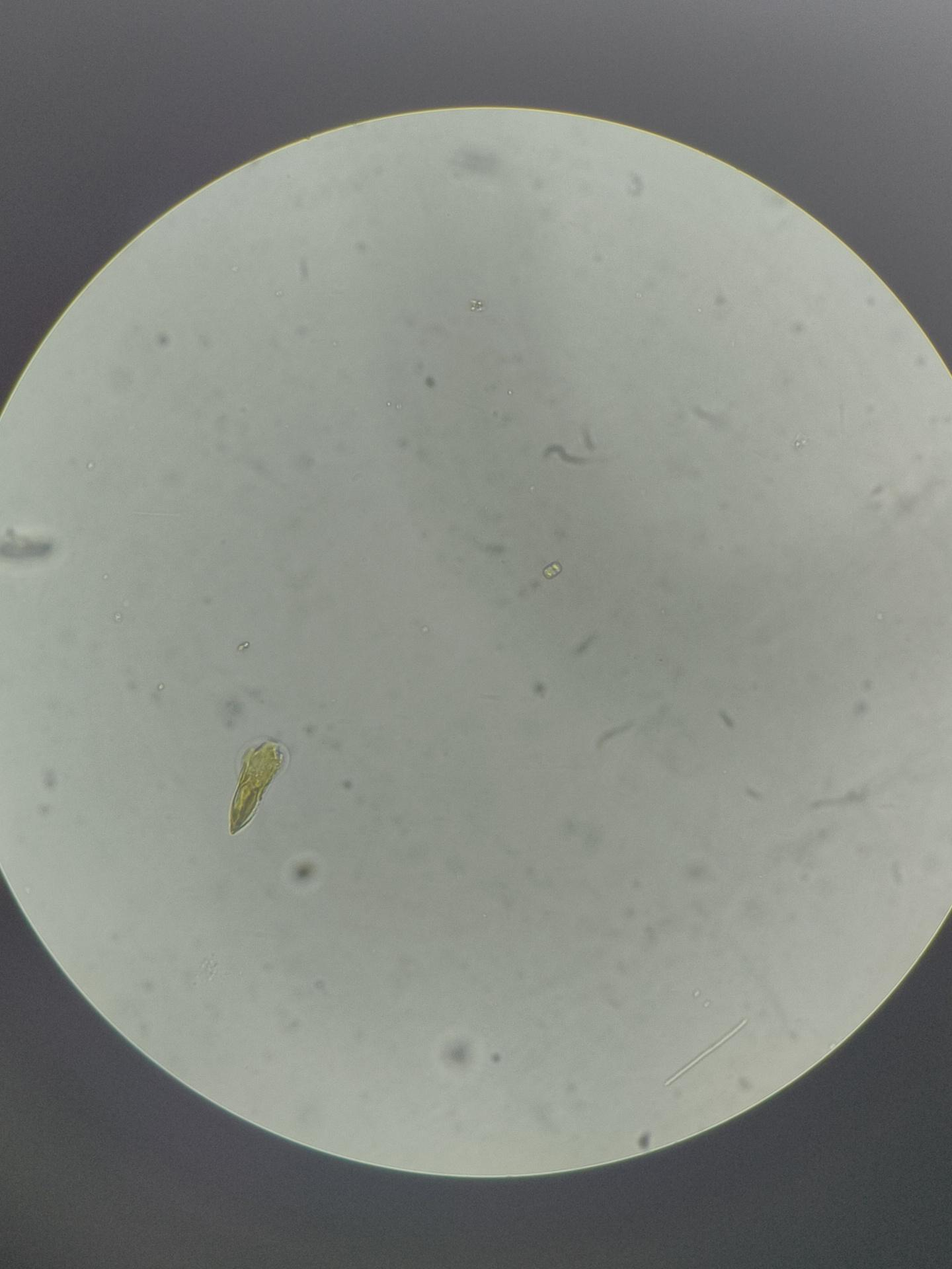Euglena: (217, 727, 295, 839)
